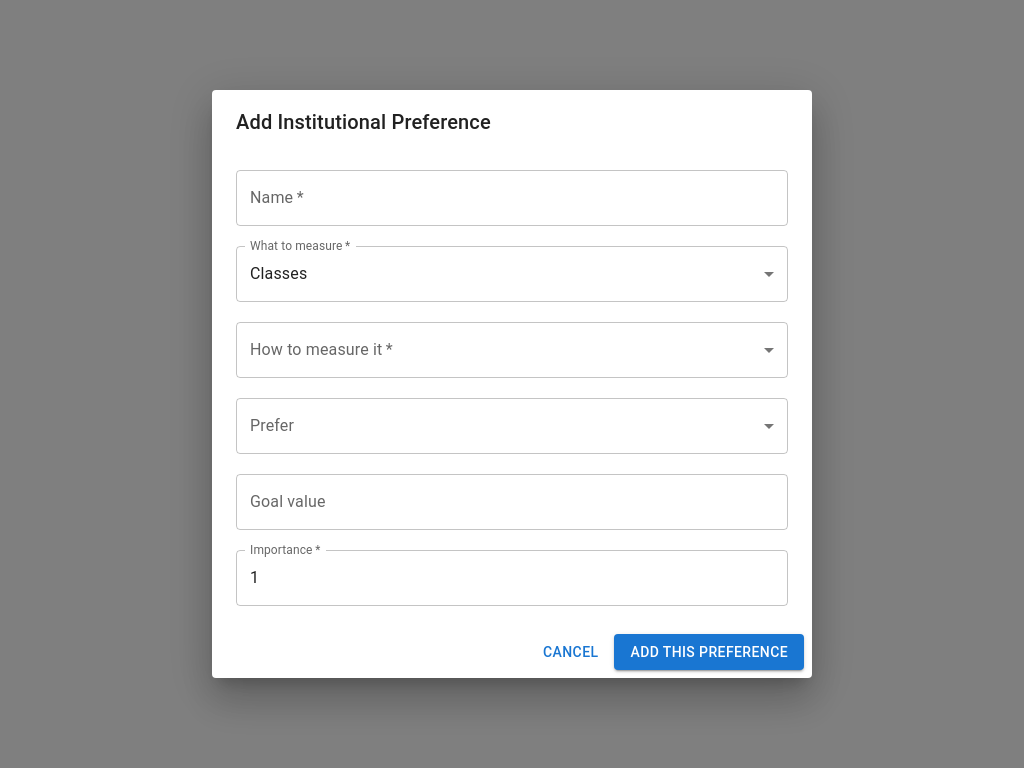
Test case: AddMetricDialog › shows validation error if name is empty on submit
Step 1. Click the button "Add This Preference" → click(709, 652), box [614,634,804,670]
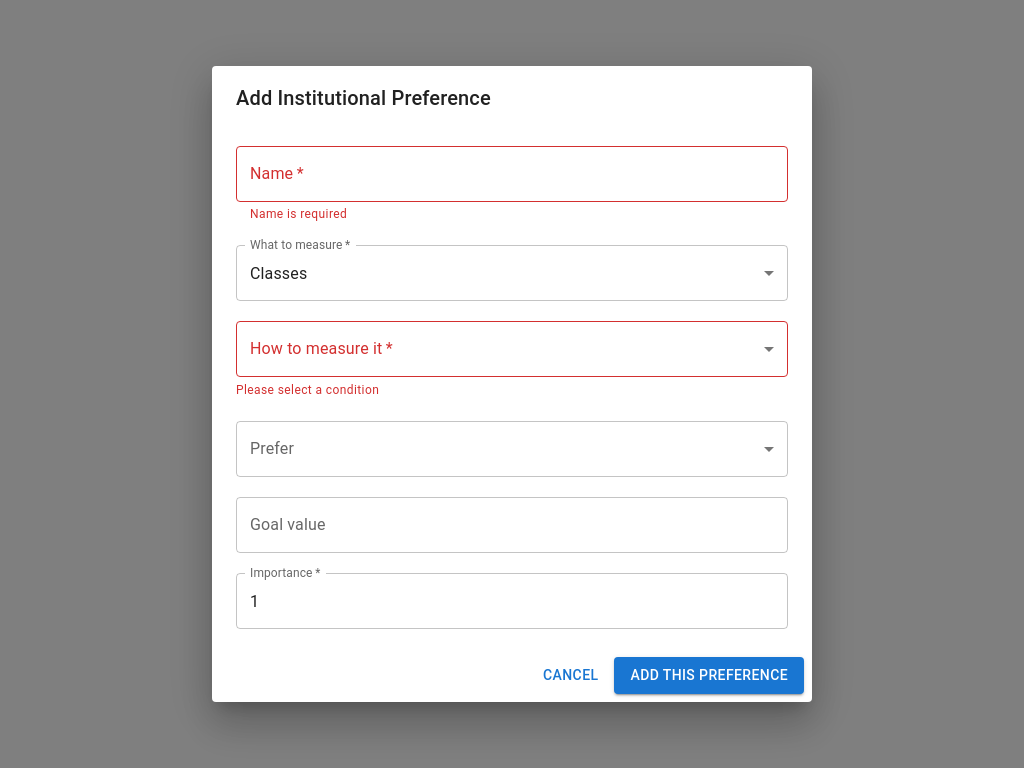
Now the text "Name is required" is shown, box [250,207,347,221]
